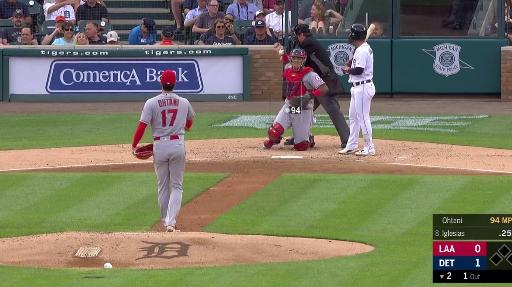pitcher: (130, 70, 196, 233)
